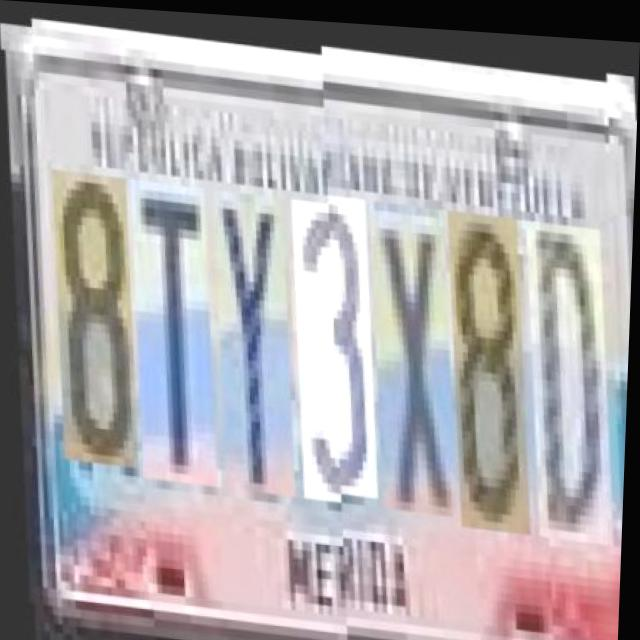3: (281, 183, 383, 488)
8: (438, 198, 536, 522), (42, 159, 142, 456)
d: (515, 206, 619, 530)
t: (120, 167, 221, 472)
x: (359, 191, 461, 504)
y: (202, 175, 299, 480)
